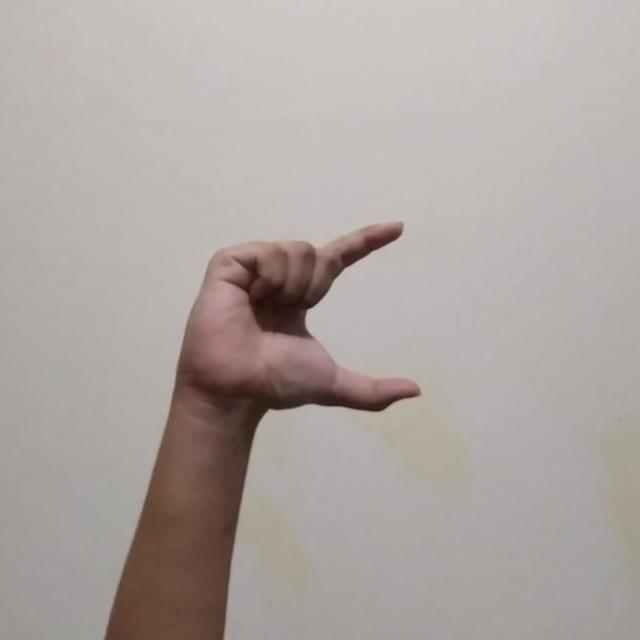C: (166, 211, 432, 424)
